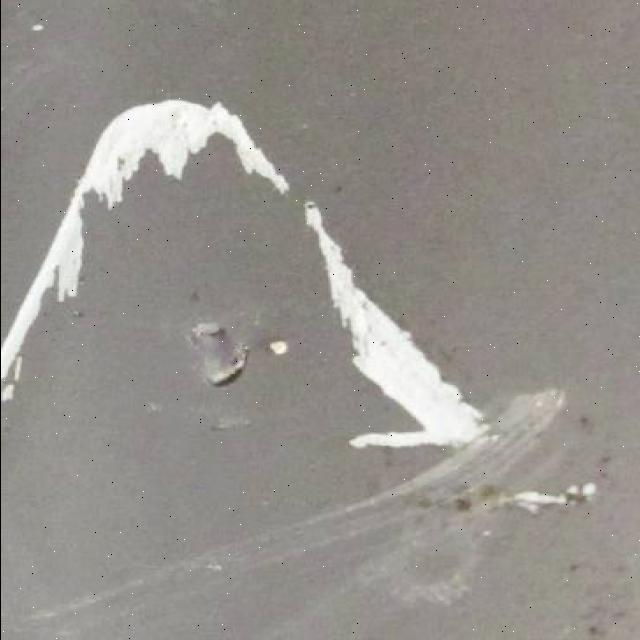boli: (170, 288, 260, 415)
